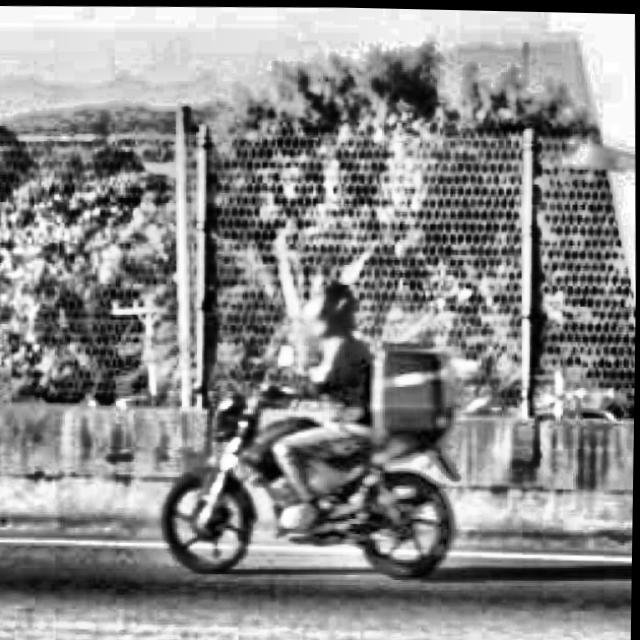motorcycle: (138, 331, 489, 587)
